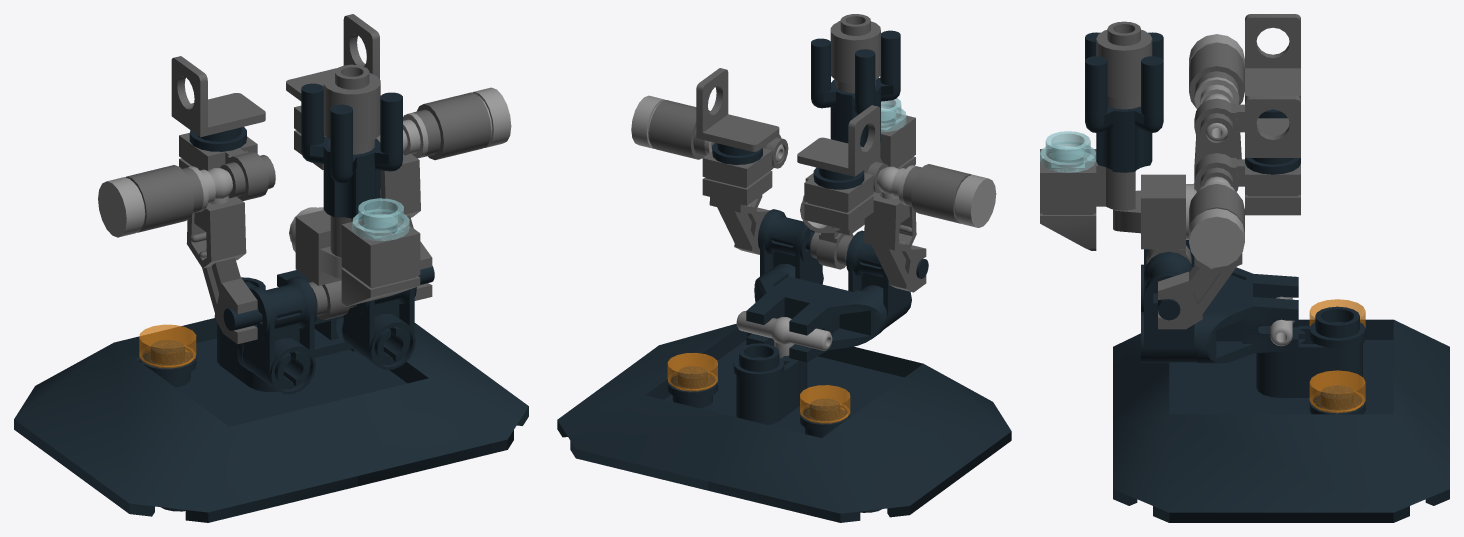
The model's file is mvf-stand.dae.
The picture shows the model from 3 angles, left to right: view 1: azimuth 30°, elevation 25°; view 2: azimuth 150°, elevation 25°; view 3: azimuth 270°, elevation 25°; orthographic projection. The views are drawn at different scales.
Bounding box in the file's own units: 160 × 146 × 157.
